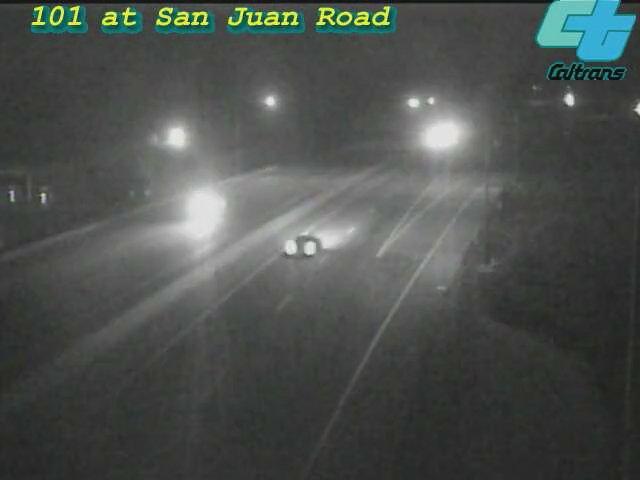vehicle: (158, 171, 238, 251), (268, 203, 348, 283), (411, 110, 461, 160)
